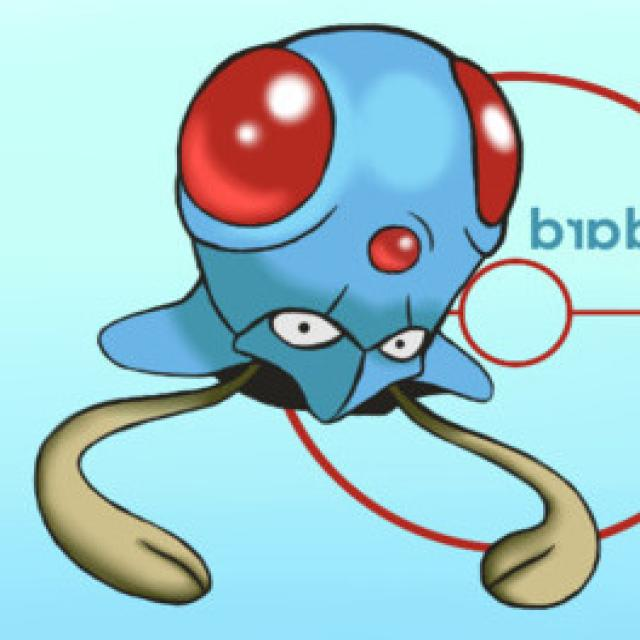Tentacool: (86, 26, 542, 498)
